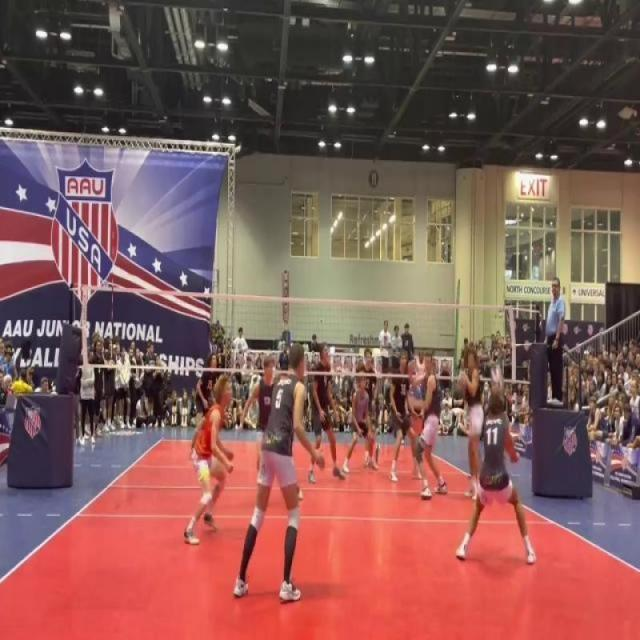volleyball: (490, 366, 506, 396)
